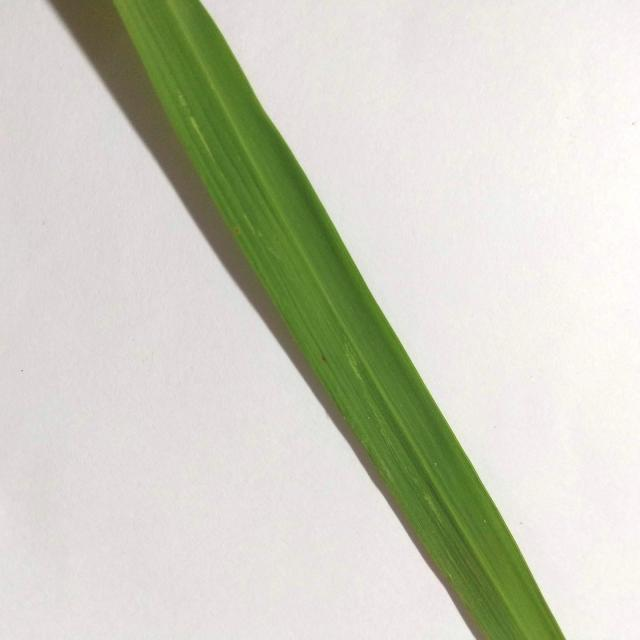healthy: (71, 0, 570, 640)
